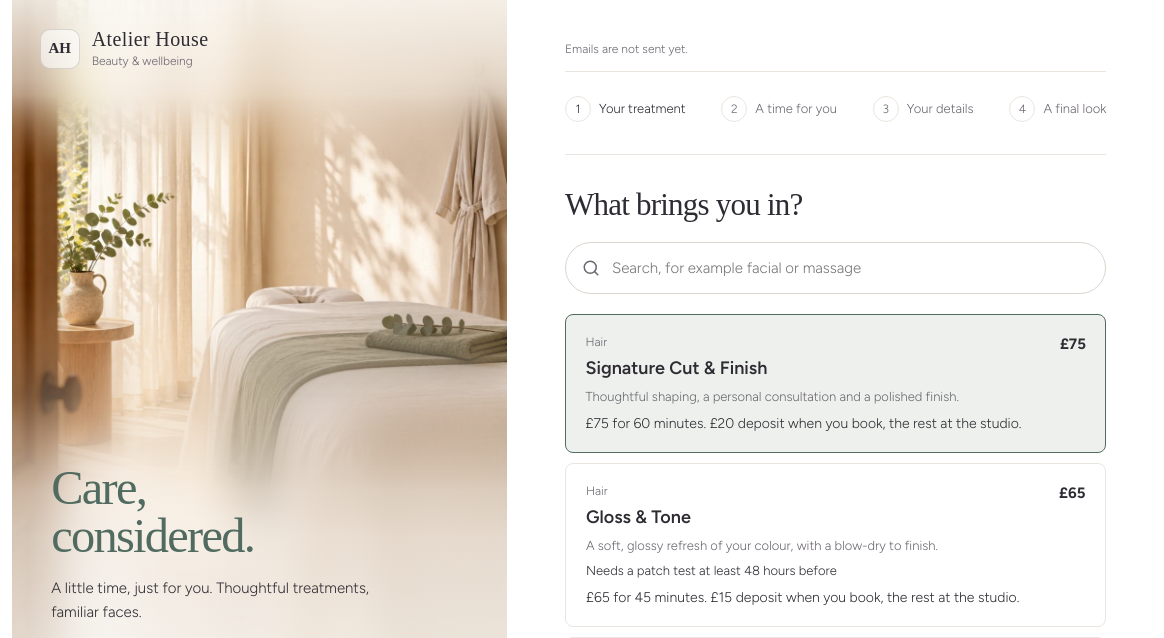
Scenario: a colour shows that a patch test comes first, and the patch test is one tap away
Step 1. Click the button "Gloss & Tone" → (836, 545), box [565, 463, 1106, 627]
(page scrolled)
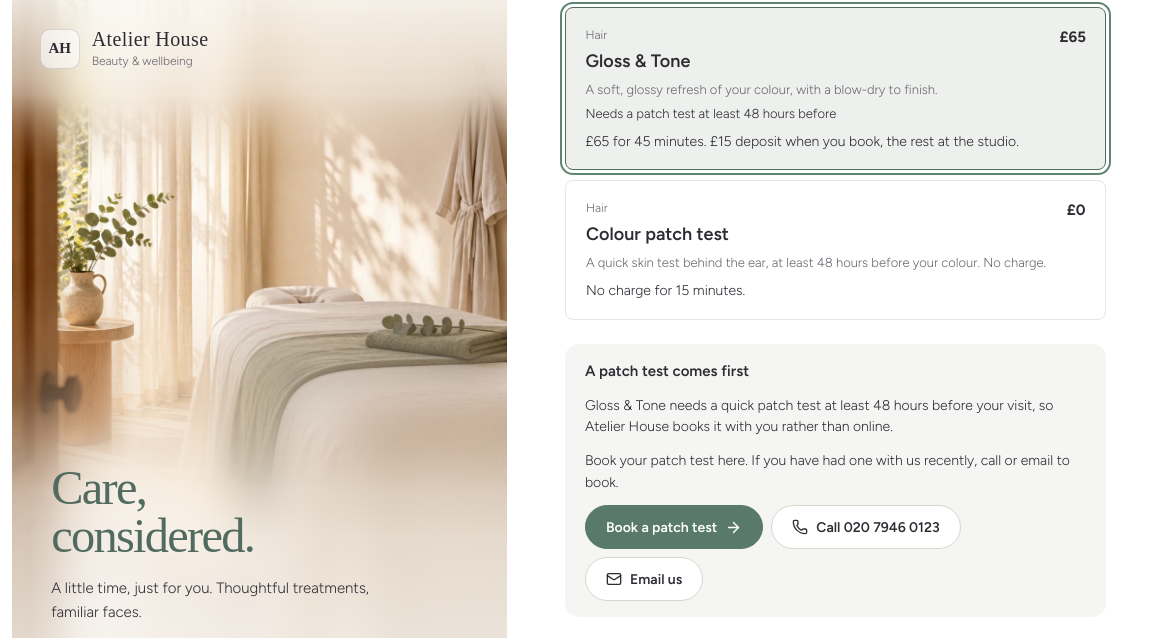
Check: the element "A patch test comes first" shows "Gloss & Tone needs a quick patch test at least 48 hours before your visit, so Atelier House books it with you rather than online.", box [565, 344, 1106, 617]
Check: the element "A patch test comes first" shows "Book your patch test here. If you have had one with us recently, call or email to book.", box [585, 452, 1070, 491]
Step 2. Click the link "Book a patch test" → (674, 527), box [585, 505, 763, 549]
(page scrolled)
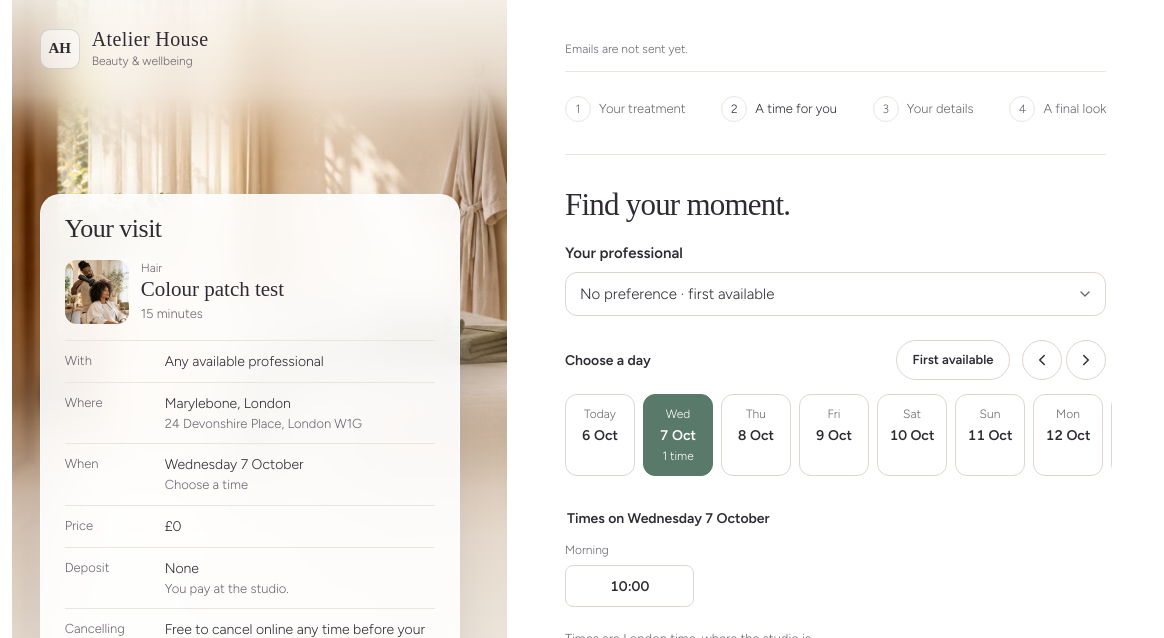
Check: the heading "Find your moment." is shown, box [565, 187, 790, 222]
